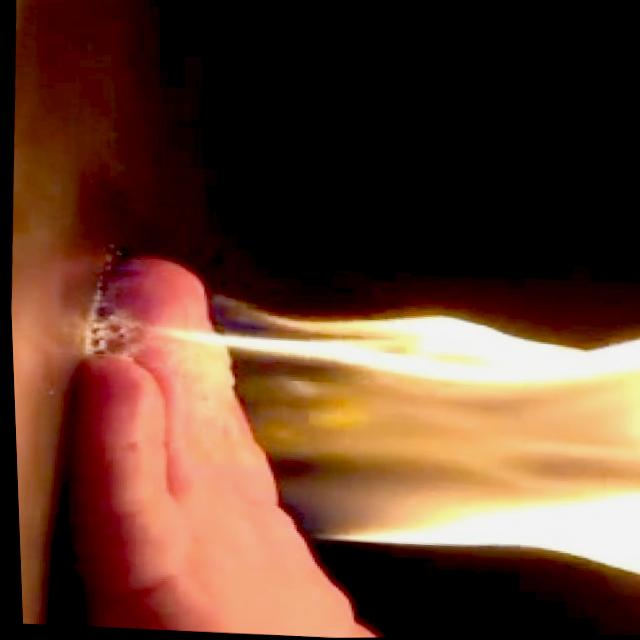helmet: (151, 283, 640, 586)
